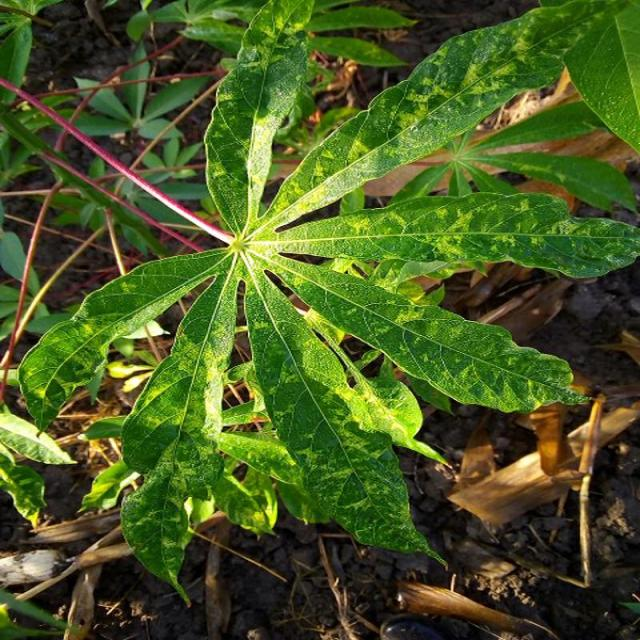cassava leaf: (12, 0, 638, 604)
